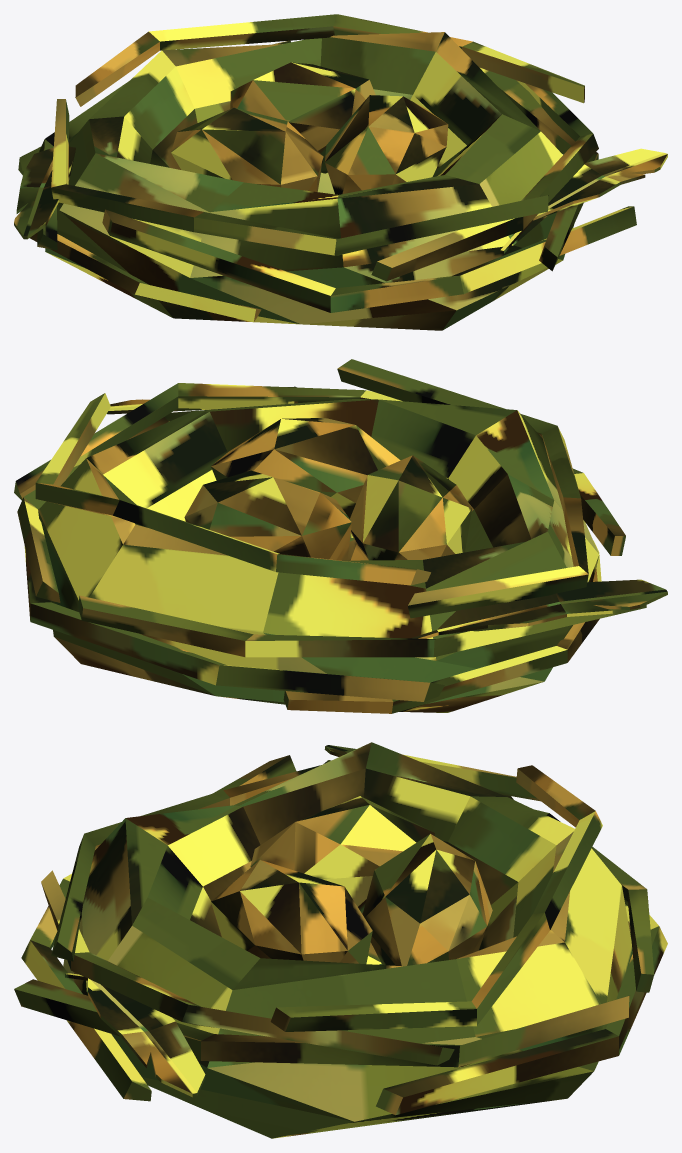
File: Bird_egg01.fbx
3 renders of one model, top to bottom at view 1: azimuth 30°, elevation 25°; view 2: azimuth 150°, elevation 25°; view 3: azimuth 270°, elevation 25°, orthographic. The views are drawn at different scales.
Visible parts, largest first — view 1: birds_nest, birds_egg; view 2: birds_nest, birds_egg; view 3: birds_nest, birds_egg.
Part boxes in pixels (x1,y1,x2,y2): birds_nest: (14, 14, 667, 330); birds_egg: (324, 95, 448, 194); birds_nest: (14, 359, 667, 713); birds_egg: (211, 418, 400, 518); birds_nest: (14, 742, 667, 1138); birds_egg: (211, 860, 372, 963).
Bounding box in the file's own units: 232 × 69.5 × 195.
